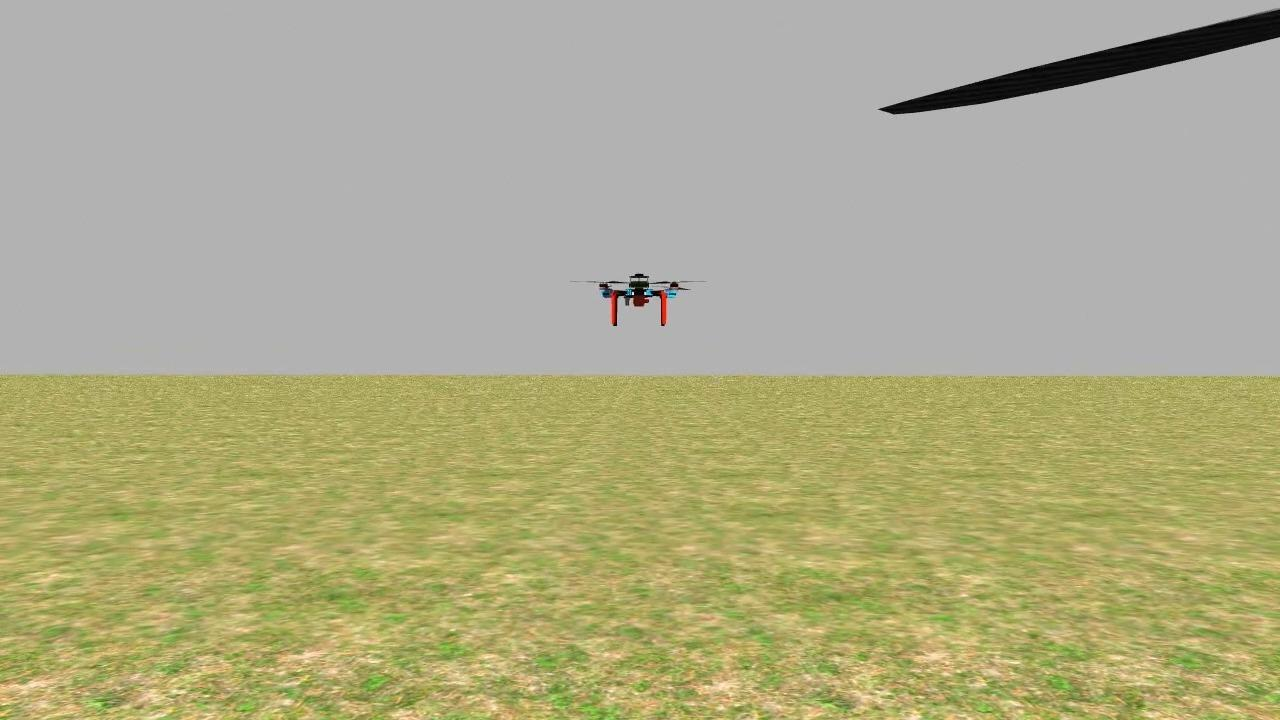UAV: (574, 261, 706, 336)
